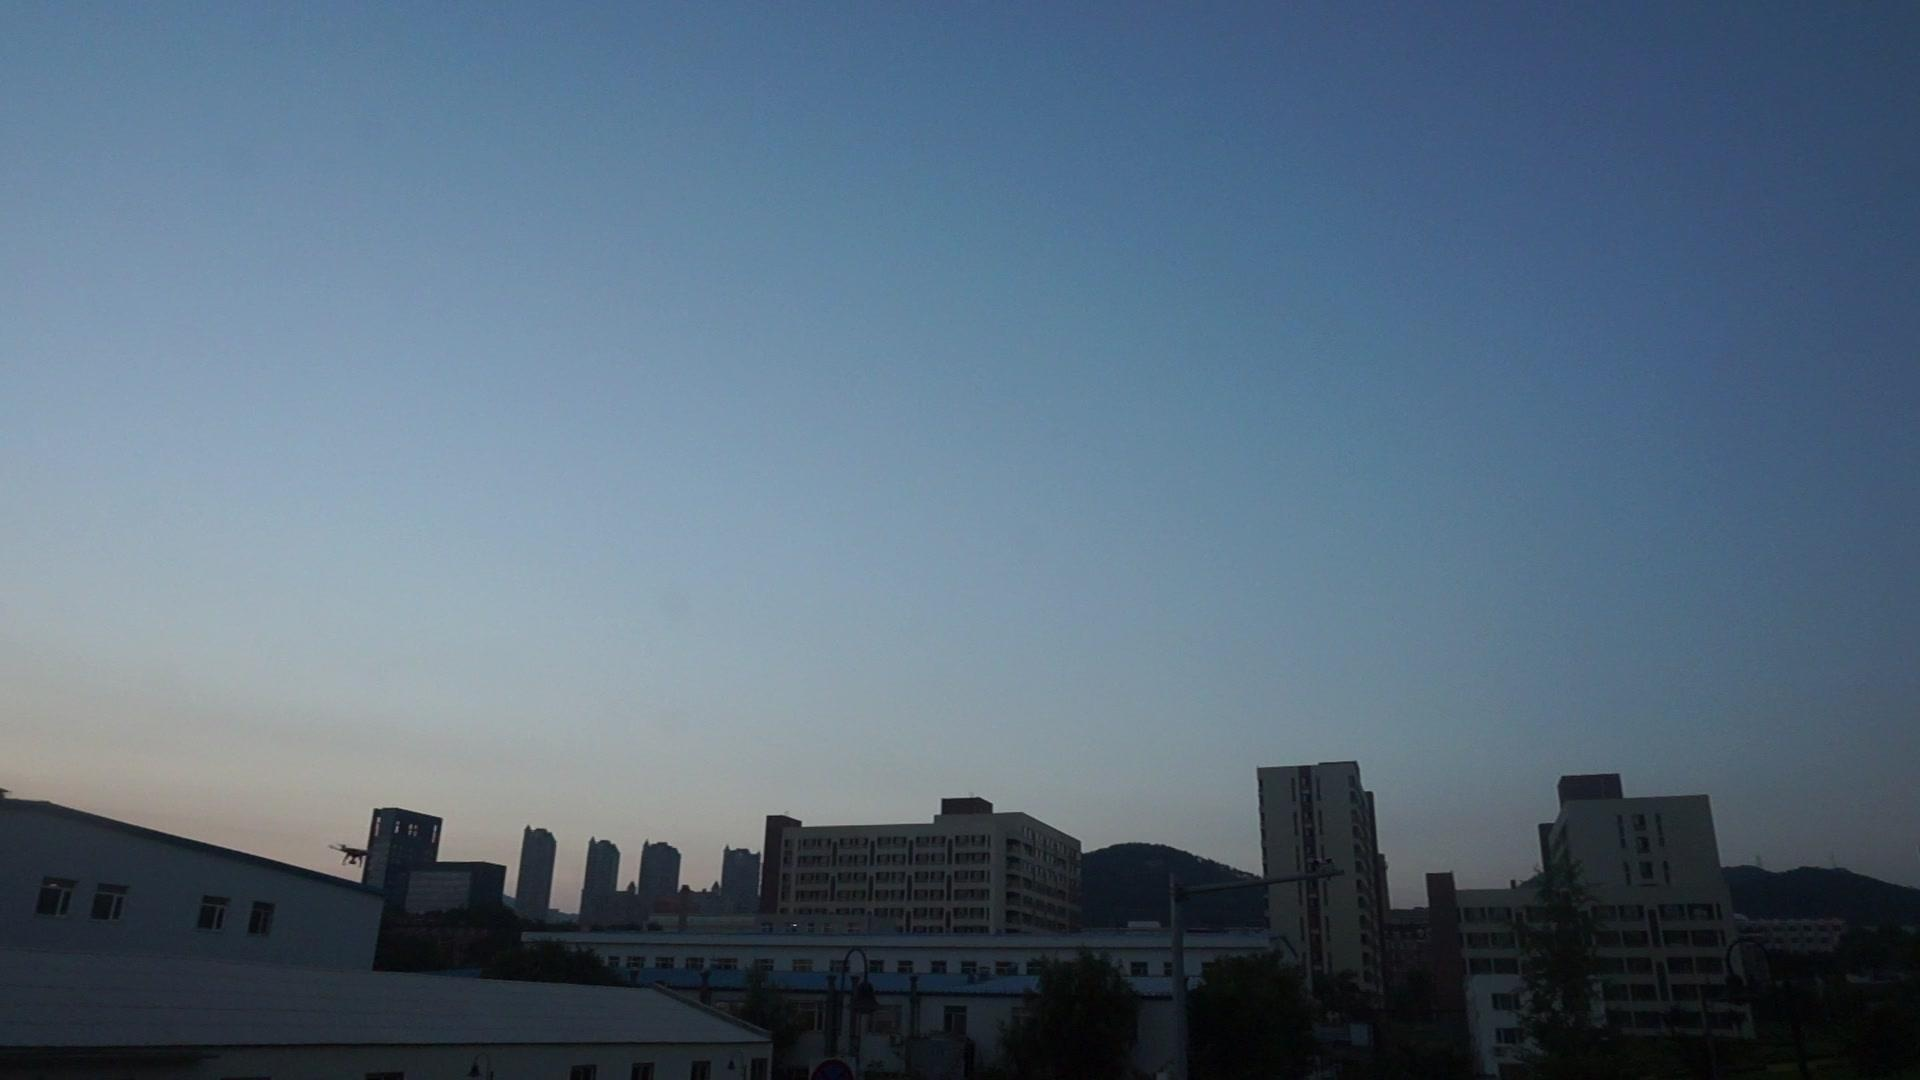UAV: (328, 843, 376, 866)
